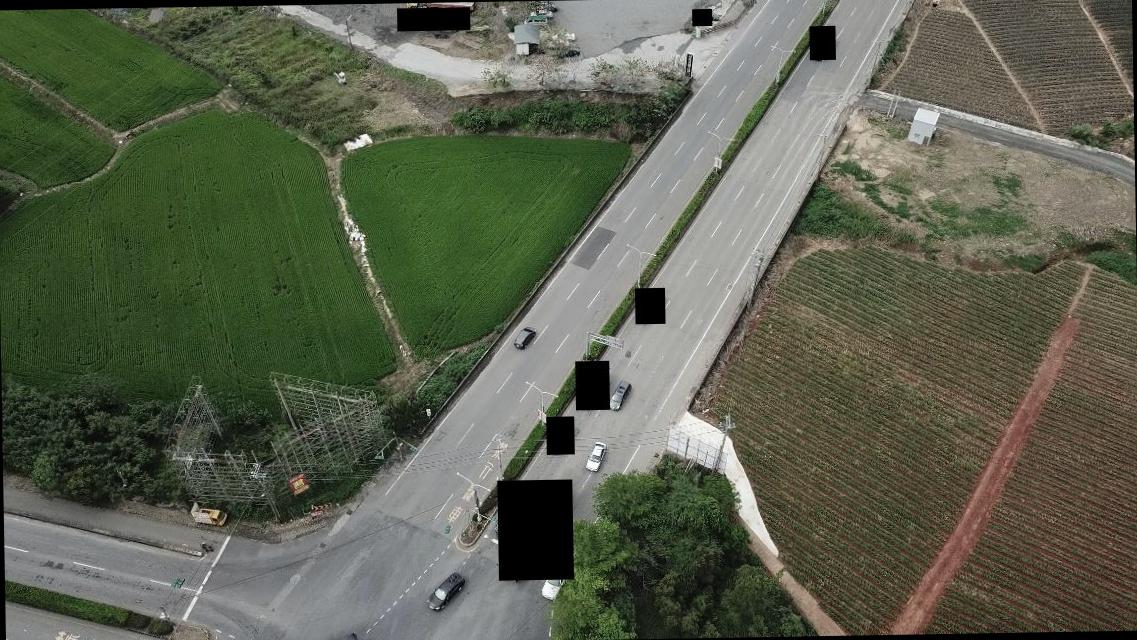vehicle: (494, 492, 529, 538), (425, 570, 463, 612), (539, 556, 574, 600), (607, 381, 633, 412), (584, 442, 608, 472), (195, 506, 228, 527), (514, 325, 536, 349)
